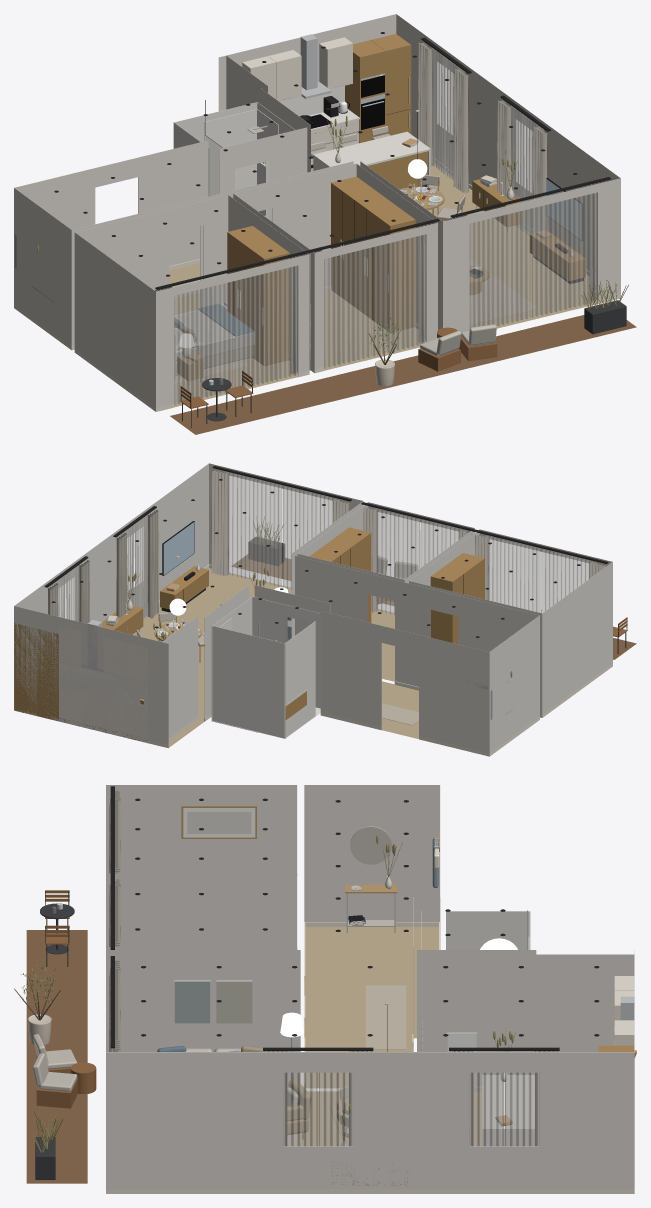
The model's file is unit-1.C-atlantic.glb.
3 renders of one model, top to bottom at view 1: azimuth 30°, elevation 25°; view 2: azimuth 150°, elevation 25°; view 3: azimuth 270°, elevation 25°, orthographic. The views are drawn at different scales.
Parts seen in each view (by area): view 1: int-wall, int-sheer, int-joineryTall, int-floor, int-curtain, int-deck, int-joinery, int-showerWall, int-matteBlack, int-worktop, int-rug, int-teak (+13 smaller); view 2: int-wall, int-sheer, int-bathWall, int-joineryTall, int-joinery, int-curtain, int-floor, int-splash, int-matteBlack, int-hallFloor, int-deck, int-tv (+4 smaller); view 3: int-wall, int-hallFloor, int-deck, int-sheer, int-joinery, int-worktop, int-bathWall, int-rug, int-curtain, int-floor, int-teak, int-matteBlack (+12 smaller).
Boxes of the visible parts, box(x1,y1,x2,y2) form: int-wall: box(14, 14, 620, 407); int-sheer: box(174, 47, 597, 404); int-joineryTall: box(227, 34, 585, 365); int-floor: box(174, 163, 597, 407); int-curtain: box(155, 42, 606, 374); int-deck: box(170, 315, 636, 434); int-joinery: box(14, 37, 620, 411); int-showerWall: box(204, 109, 278, 215); int-matteBlack: box(155, 37, 610, 289); int-worktop: box(259, 108, 430, 187); int-rug: box(169, 258, 538, 383); int-teak: box(180, 327, 497, 408); int-wall: box(14, 463, 612, 752); int-sheer: box(51, 472, 596, 621); int-bathWall: box(211, 596, 320, 738); int-joineryTall: box(14, 527, 484, 721); int-joinery: box(14, 564, 612, 756); int-curtain: box(48, 470, 605, 623); int-floor: box(132, 568, 394, 747); int-splash: box(59, 662, 147, 708); int-matteBlack: box(44, 466, 608, 740); int-hallFloor: box(382, 681, 418, 738); int-deck: box(231, 554, 636, 659); int-tv: box(163, 522, 194, 575); int-wall: box(106, 785, 634, 1189); int-hallFloor: box(304, 927, 438, 1088); int-deck: box(26, 930, 87, 1183); int-sheer: box(109, 798, 539, 1146); int-joinery: box(106, 922, 634, 1193); int-worktop: box(447, 1032, 534, 1146); int-bathWall: box(421, 911, 530, 949); int-rug: box(287, 985, 406, 1145); int-curtain: box(113, 790, 558, 1146); int-floor: box(298, 1091, 481, 1146); int-teak: box(36, 890, 96, 1108); int-matteBlack: box(110, 786, 559, 1050).
Bounding box in the file's own units: 10.9 × 2.8 × 10.71.
